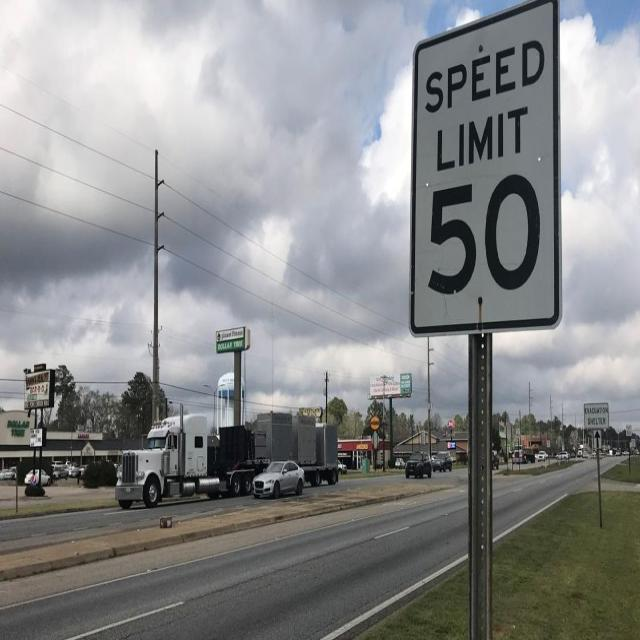speedLimit50: (421, 61, 546, 301)
